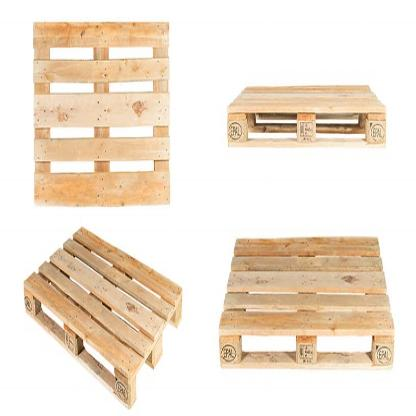BoxFace: (24, 222, 185, 409), (31, 18, 172, 206), (218, 236, 395, 372), (226, 81, 388, 153)
